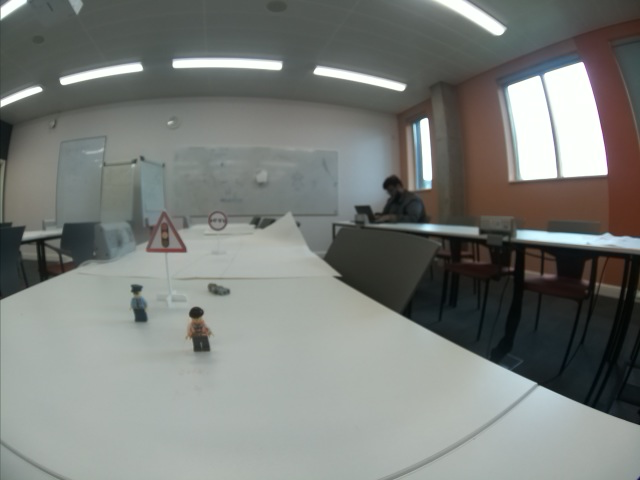6ft6: (208, 210, 228, 231)
Lego Man: (185, 307, 213, 352), (128, 284, 149, 322), (205, 283, 233, 294)
Traffic lights: (146, 212, 188, 251)
